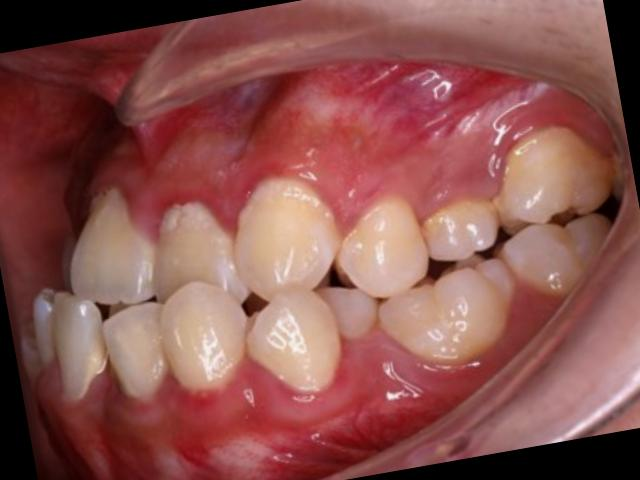molar class III full class: (350, 124, 634, 380)
